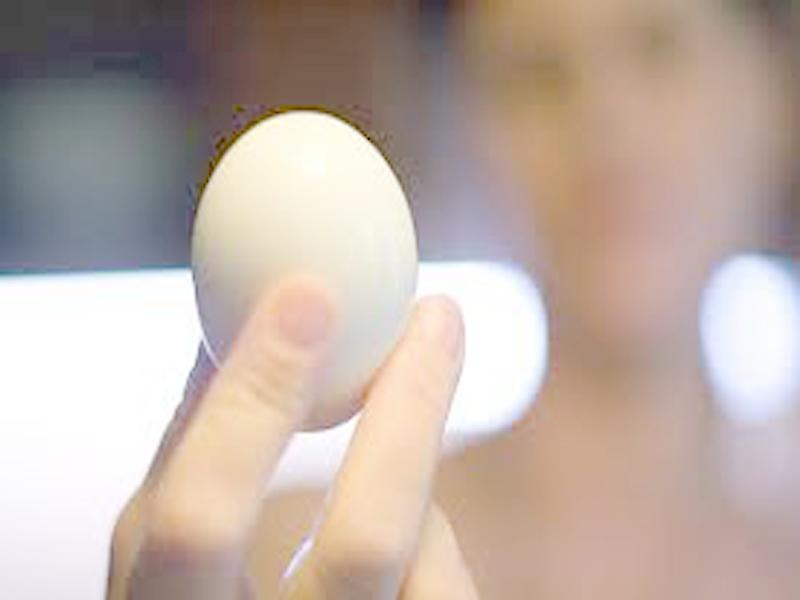Eggs: (195, 111, 422, 433)
